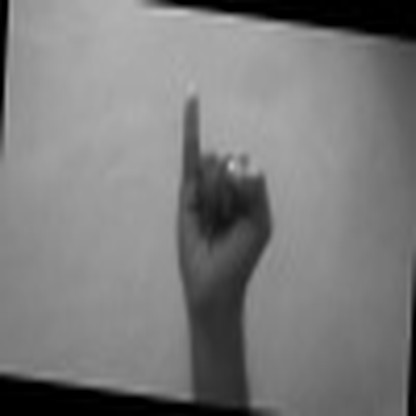i: (143, 70, 299, 312)
